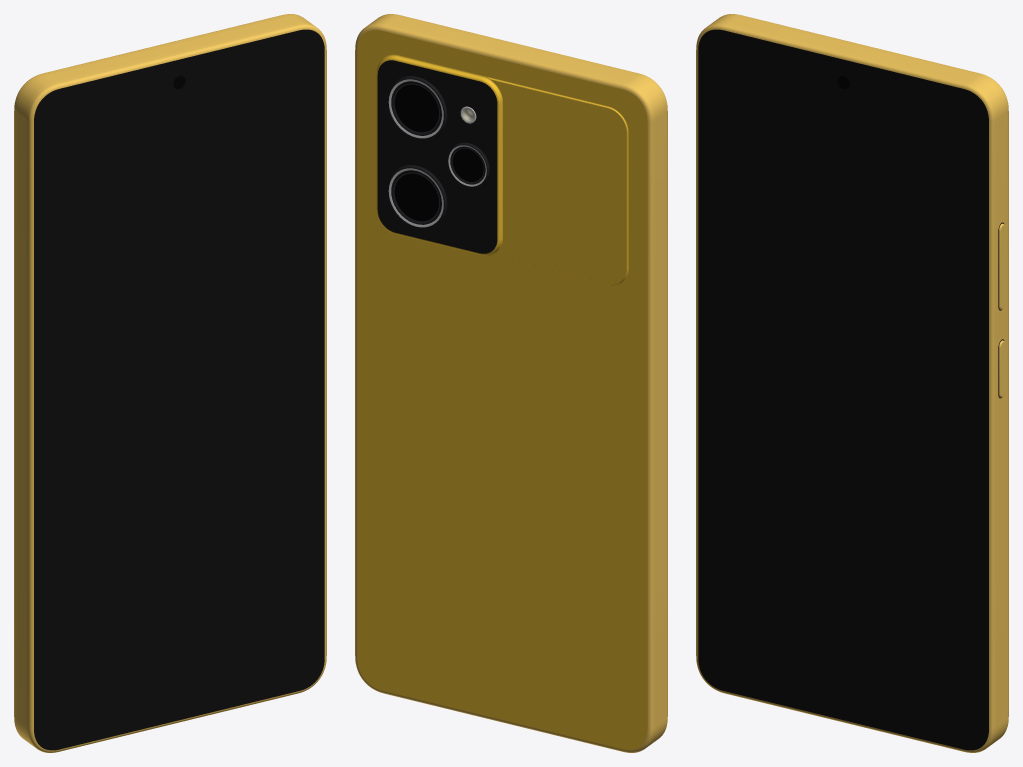
Rendered from poco-x5-pro-5g.glb.
The picture shows the model from 3 angles, left to right: view 1: azimuth 30°, elevation 25°; view 2: azimuth 150°, elevation 25°; view 3: azimuth 330°, elevation 25°; orthographic projection.
Parts seen in each view (by area): view 1: body; view 2: body, camera; view 3: body, buttons.
Boxes of the visible parts, box(x1,y1,x2,y2) form: body: box(14, 14, 326, 752); body: box(355, 14, 667, 752); camera: box(376, 54, 628, 285); body: box(696, 14, 1008, 752); buttons: box(998, 222, 1005, 398).
Bounding box in the file's own units: 76.46 × 163 × 9.98.
